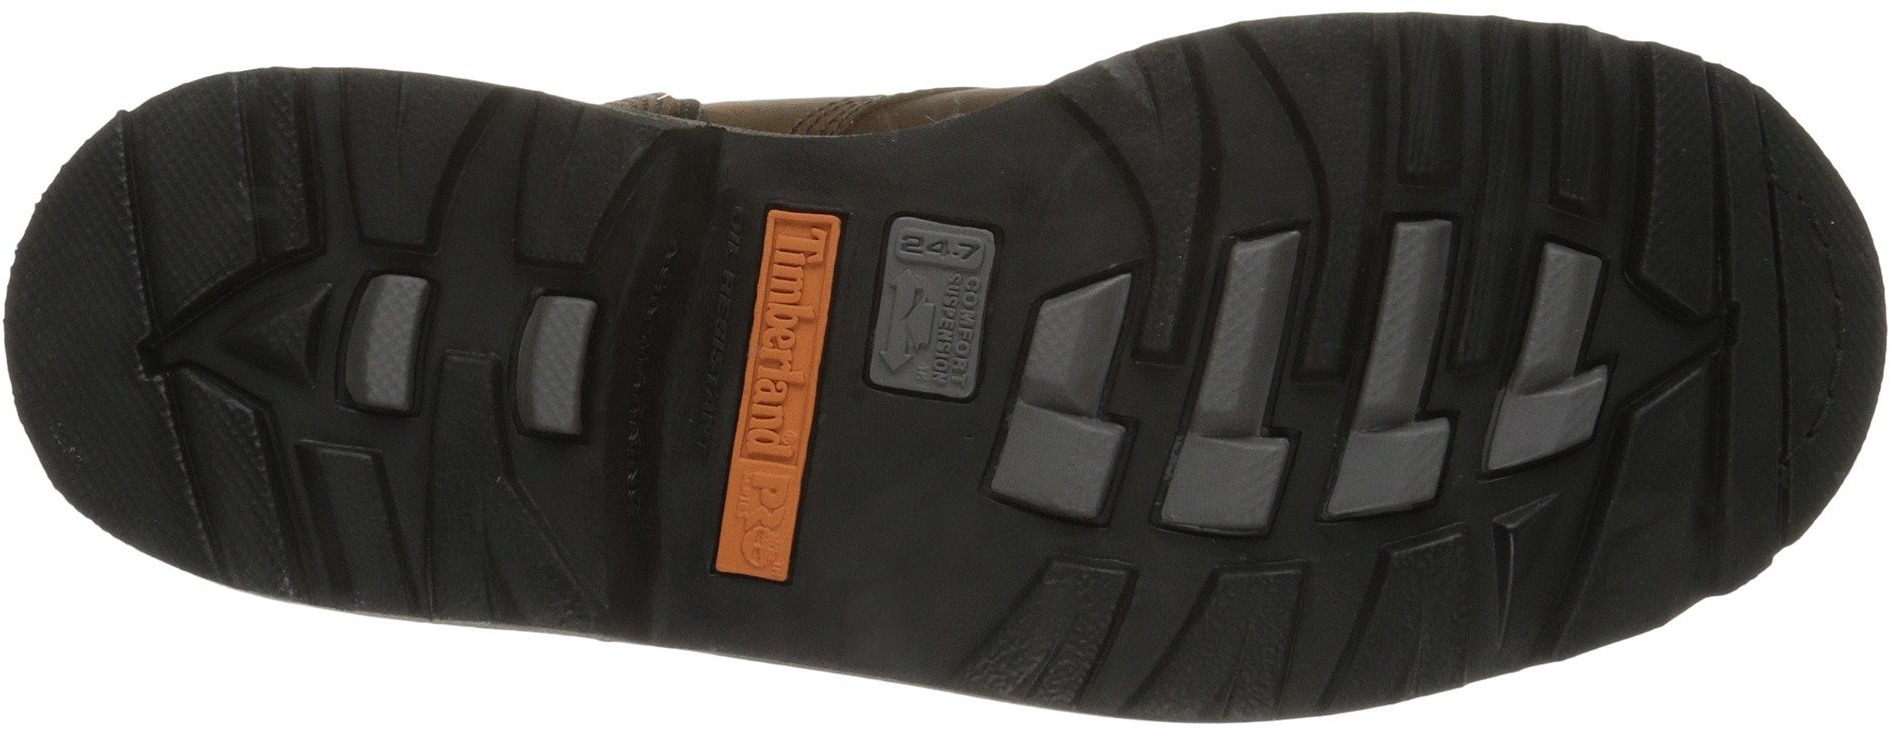exclude: (648, 129, 937, 675)
quad: (1140, 199, 1330, 558), (235, 415, 460, 627), (1465, 206, 1625, 484), (500, 277, 622, 495), (1006, 256, 1141, 415)
